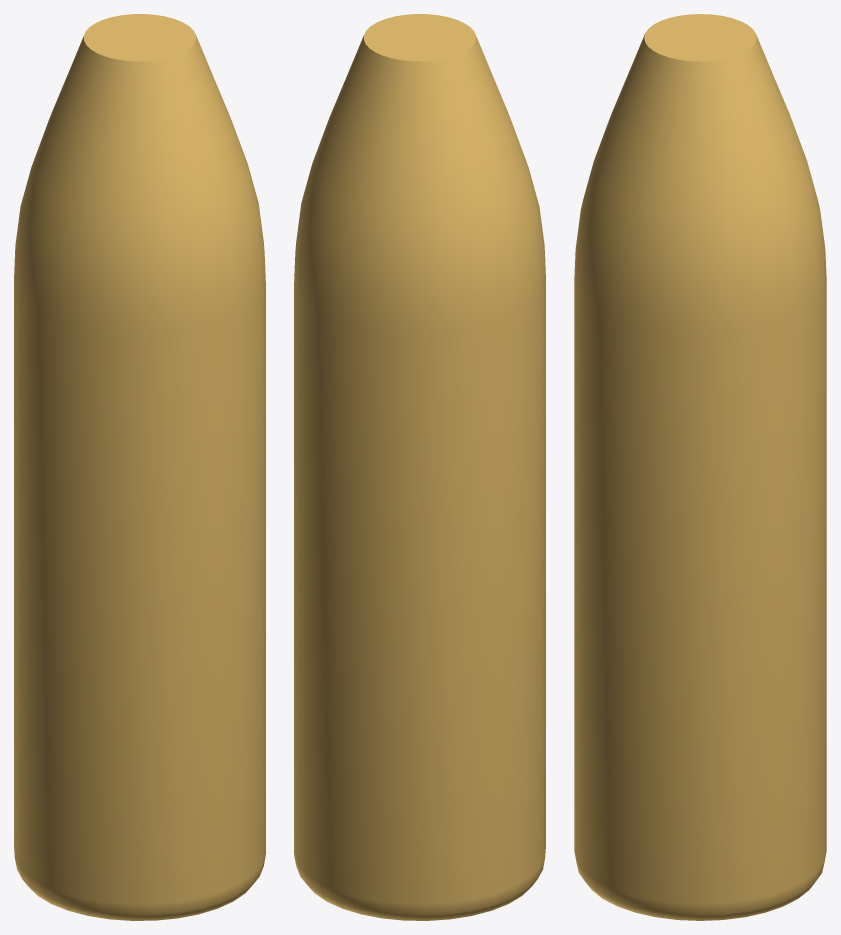
File: SM_GlassBottle_Liquid.fbx
3 views of the same model, side by side, from view 1: azimuth 30°, elevation 25°; view 2: azimuth 150°, elevation 25°; view 3: azimuth 270°, elevation 25° (orthographic).
Visible parts, largest first — view 1: SM_GlassBottle_Liquid; view 2: SM_GlassBottle_Liquid; view 3: SM_GlassBottle_Liquid.
Boxes of the visible parts, x1,y1,x2,y2 form: SM_GlassBottle_Liquid: (14, 14, 265, 920); SM_GlassBottle_Liquid: (294, 14, 545, 920); SM_GlassBottle_Liquid: (574, 14, 826, 920).
Size of the model in its own units: 5.78 by 5.78 by 21.14.
